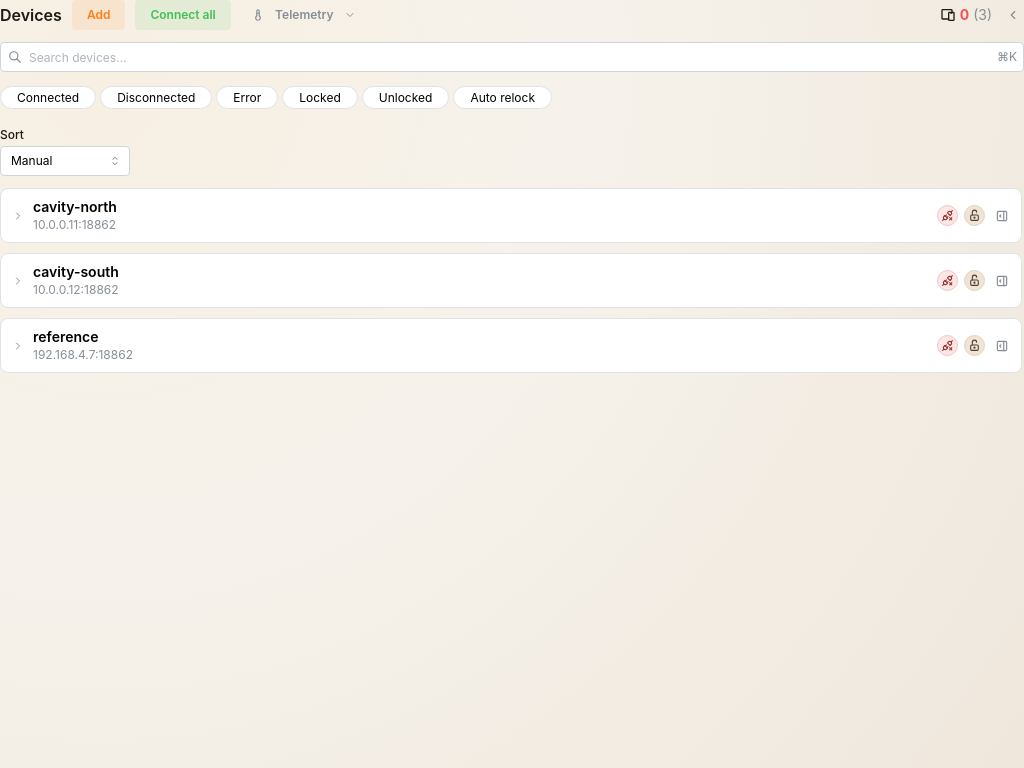
Test: DeviceList search and rows › opens one row at a time
This screenshot has width=1024, height=768.
Step 1. Click the button named "Expand cavity-north" → [18, 215], box [9,206,27,224]
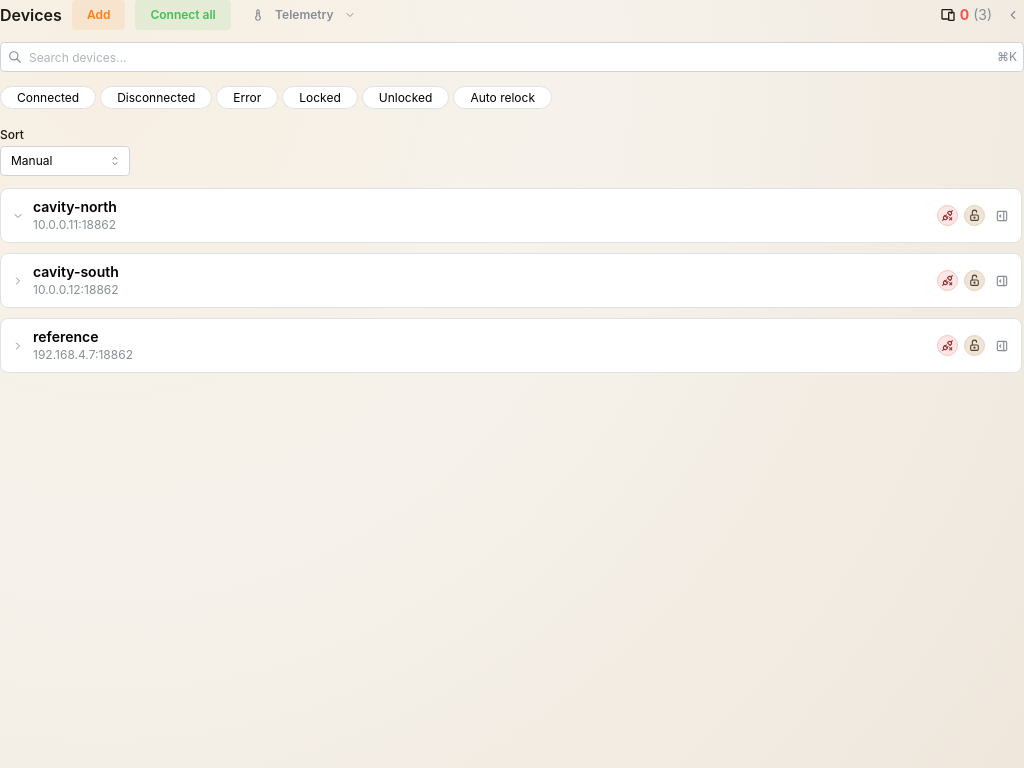
Expected: the button named "Collapse cavity-north" is shown, [9,206,27,224]
Step 2. Click the button named "Expand cavity-south" → [18, 280], box [9,271,27,289]
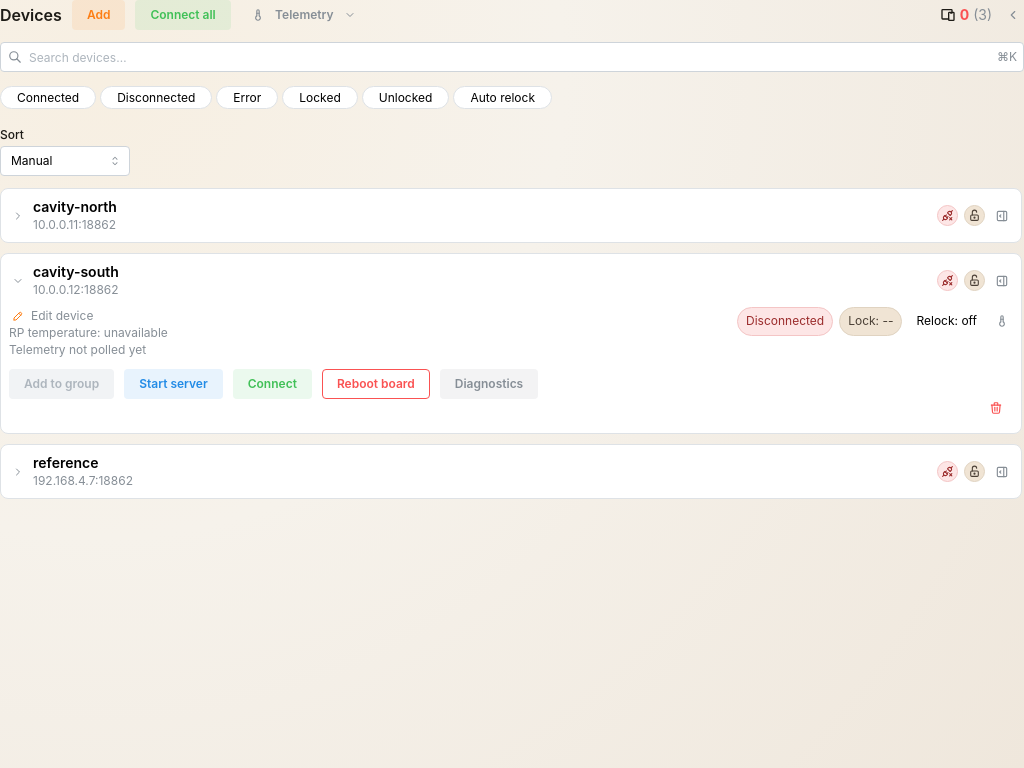
Expected: the button named "Collapse cavity-south" is shown, [9,271,27,289]
Expected: the button named "Expand cavity-north" is shown, [9,206,27,224]
